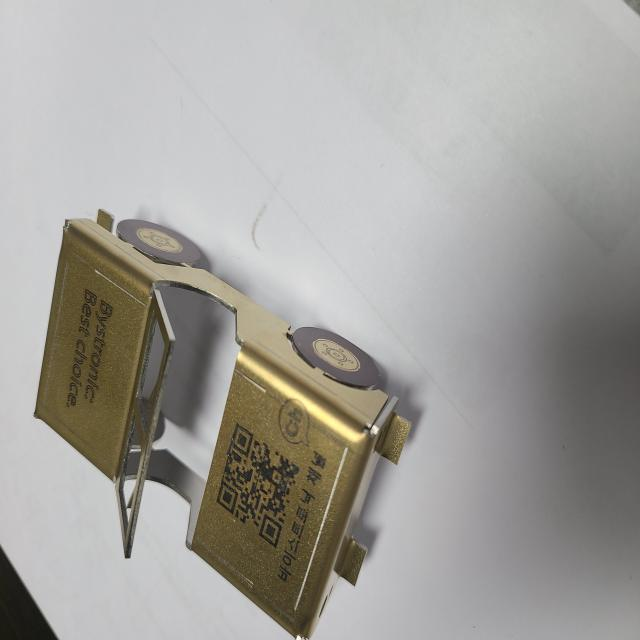tire: (293, 324, 381, 389), (118, 218, 202, 266)
